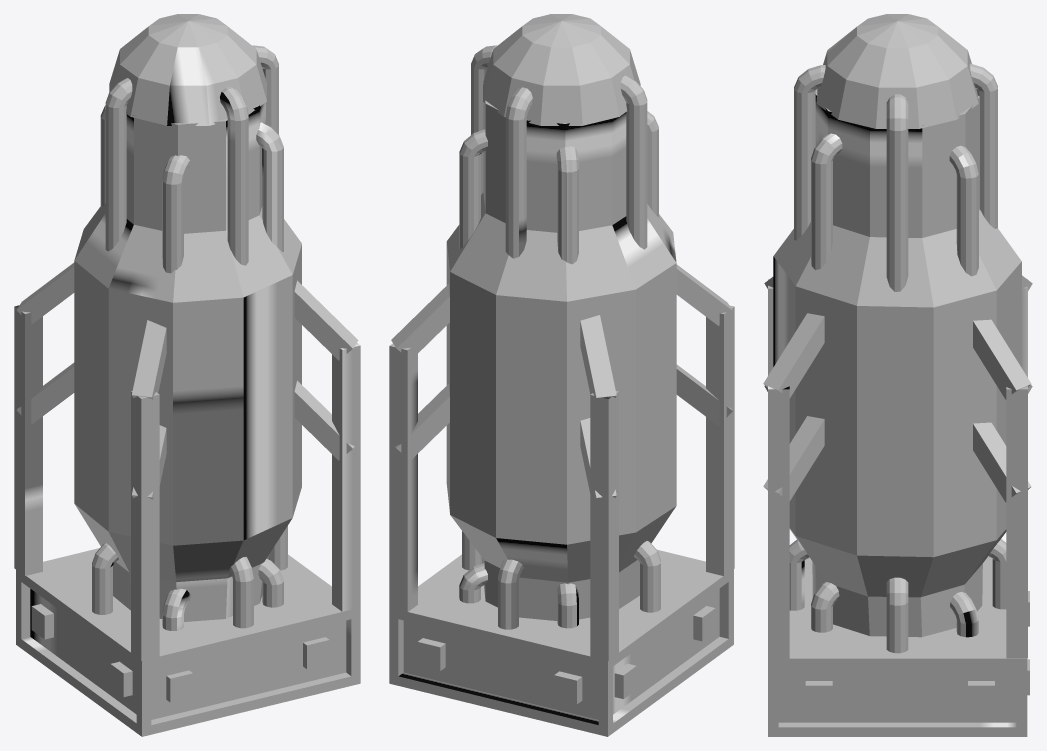
File: vacuum_refinery.obj
The picture shows the model from 3 angles, left to right: view 1: azimuth 30°, elevation 25°; view 2: azimuth 150°, elevation 25°; view 3: azimuth 270°, elevation 25°; orthographic projection. The views are drawn at different scales.
Parts seen in each view (by area): view 1: cube; view 2: cube; view 3: cube.
Boxes of the visible parts, <box> form: cube: <box>14,14,360,736</box>; cube: <box>389,14,734,736</box>; cube: <box>763,14,1032,736</box>.
Size of the model in its own units: 3.11 by 8.44 by 3.12.
